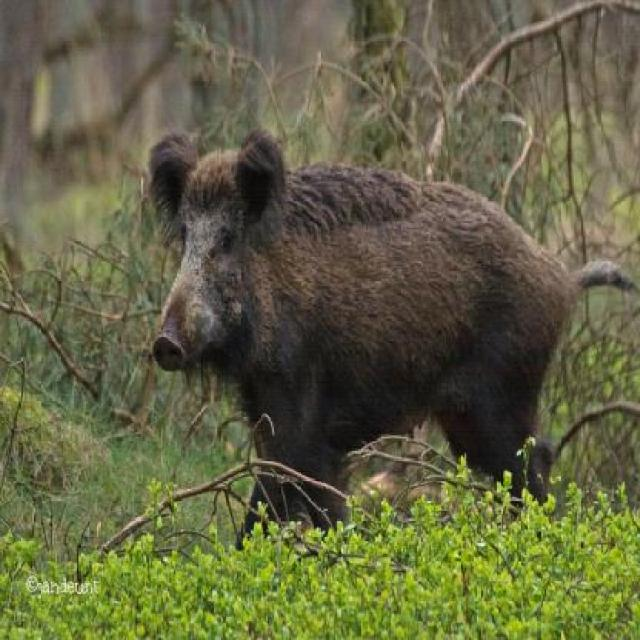wildboar: (144, 130, 639, 564)
